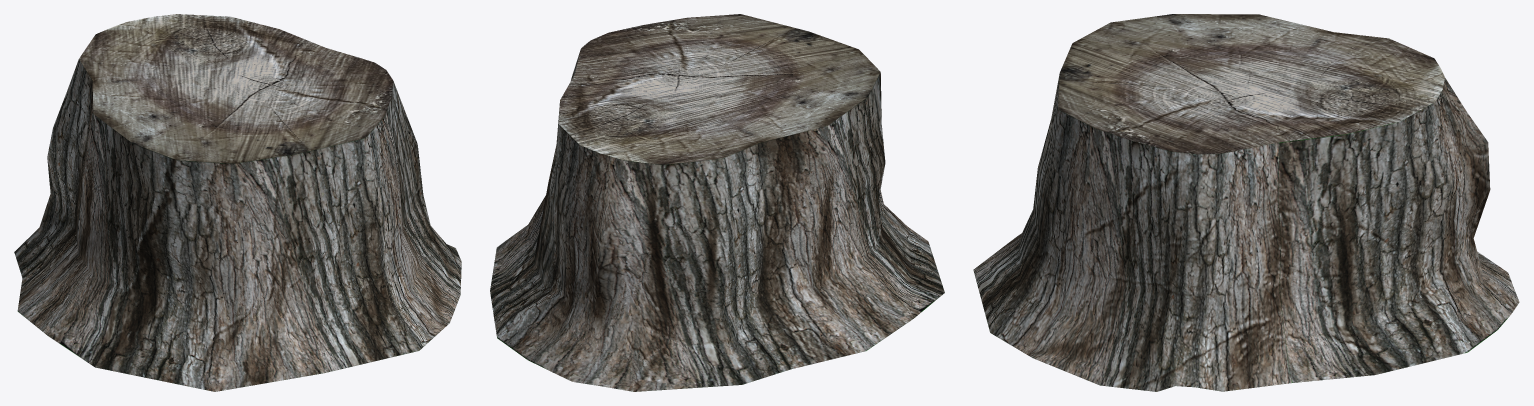
The model's file is tree stump02.FBX.
3 views of the same model, side by side, from view 1: azimuth 30°, elevation 25°; view 2: azimuth 150°, elevation 25°; view 3: azimuth 270°, elevation 25° (orthographic). The views are drawn at different scales.
Parts seen in each view (by area): view 1: tree stump02; view 2: tree stump02; view 3: tree stump02.
Part boxes in pixels (box(x1,y1,x2,y2)): tree stump02: box(14, 14, 461, 391); tree stump02: box(490, 14, 944, 391); tree stump02: box(973, 14, 1519, 391).
Size of the model in its own units: 109 by 53.29 by 122.
Materials: 1 (1 with a texture image).
